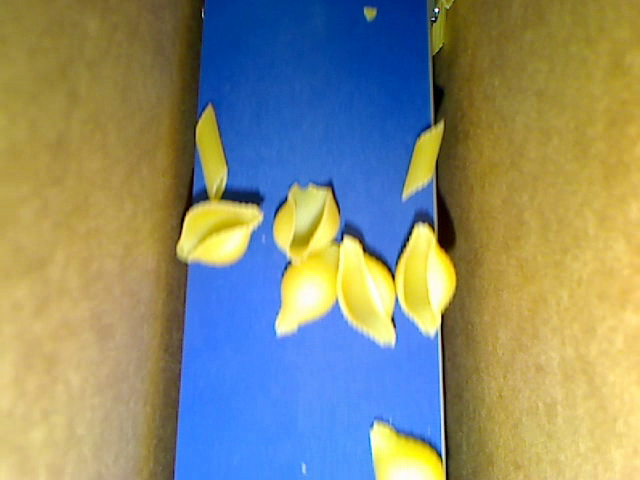penne: (401, 120, 447, 202), (191, 101, 226, 200), (426, 1, 445, 59), (444, 1, 454, 17)
shell: (335, 232, 398, 350), (394, 220, 455, 334), (273, 241, 344, 334), (174, 203, 266, 268), (272, 183, 338, 266), (368, 421, 446, 479)
